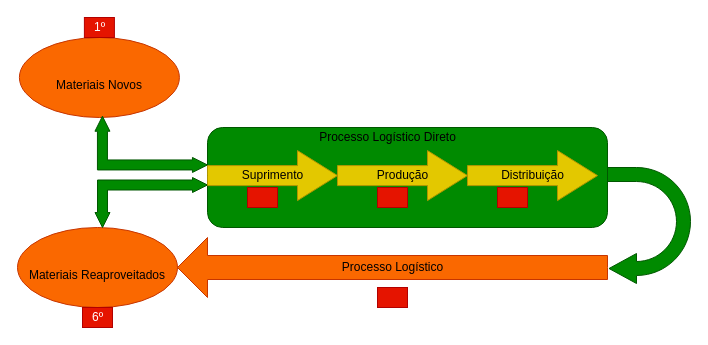
The diagram is 708 pixels wide and 345 high, and some of its shapes have lost their labels. The shapes that lost their labels are listed below. From the top down, each one's centre as x and y in pixels, then its label:
[262,197]: 2º
[392,197]: 3º
[512,197]: 4º
[392,297]: 5º
